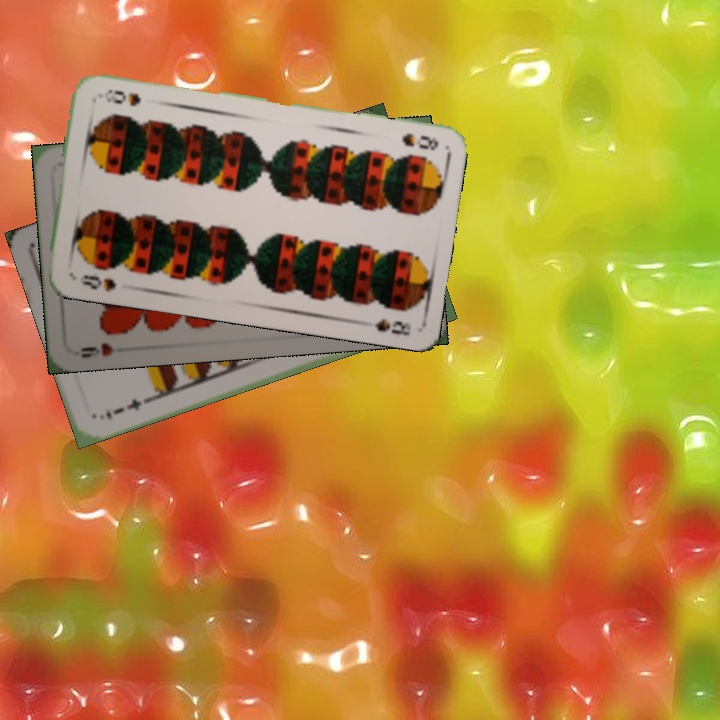E7: (101, 393, 151, 424)
H9: (77, 339, 117, 361)
S8: (76, 271, 119, 295), (398, 129, 441, 153)
